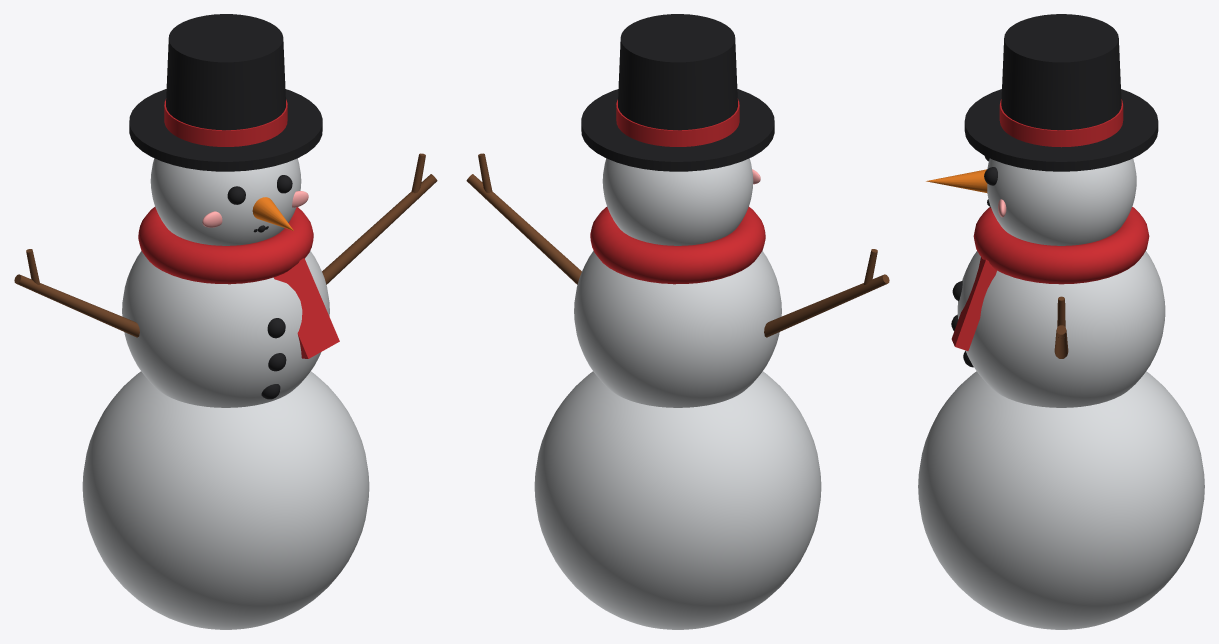
Rendered from snowman.glb.
3 views of the same model, side by side, from view 1: azimuth 30°, elevation 25°; view 2: azimuth 150°, elevation 25°; view 3: azimuth 270°, elevation 25° (orthographic).
Parts seen in each view (by area): view 1: snowman; view 2: snowman; view 3: snowman.
Boxes of the visible parts, x1,y1,x2,y2 form: snowman: (14, 14, 437, 629); snowman: (466, 14, 889, 629); snowman: (918, 14, 1204, 629).
Size of the model in its own units: 1.36 by 1.78 by 0.8.
